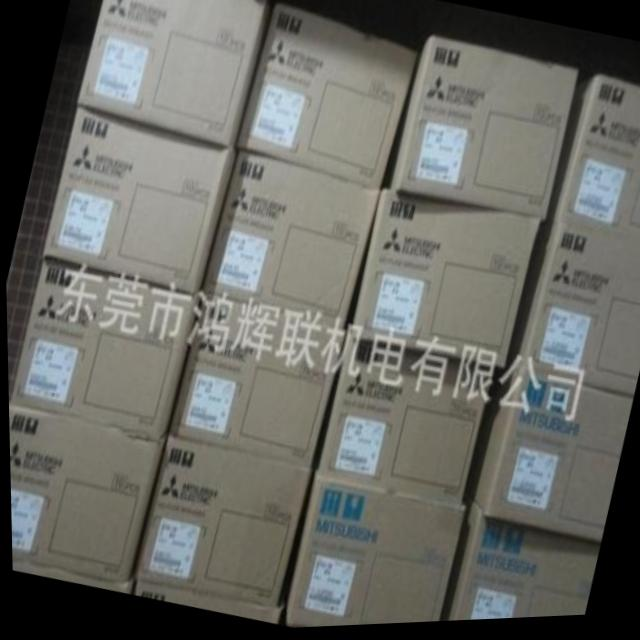box: (40, 105, 237, 294), (380, 44, 576, 227), (346, 194, 541, 370), (7, 258, 200, 435), (240, 4, 423, 189), (199, 151, 380, 335), (166, 294, 345, 476), (132, 435, 314, 609), (315, 346, 502, 513), (466, 369, 631, 549), (77, 0, 277, 148), (275, 475, 464, 630), (7, 403, 164, 581), (503, 227, 640, 405), (438, 504, 596, 625), (544, 81, 640, 248), (130, 578, 279, 627), (10, 561, 131, 595)
